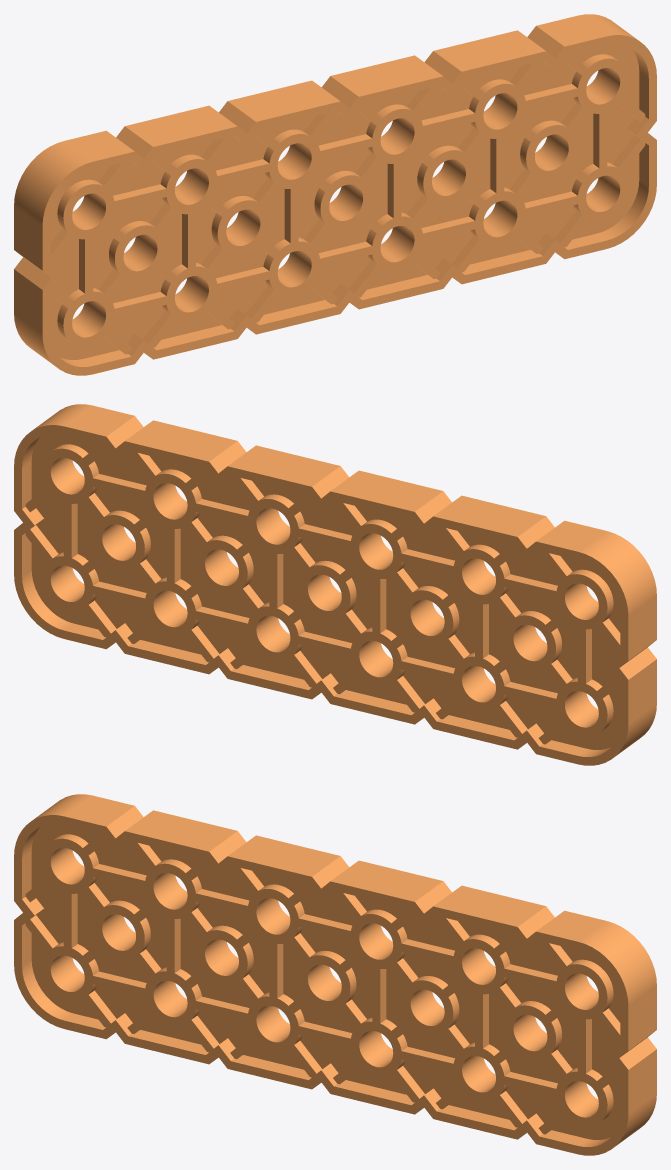
The picture shows the model from 3 angles, top to bottom: view 1: azimuth 30°, elevation 25°; view 2: azimuth 150°, elevation 25°; view 3: azimuth 330°, elevation 25°; orthographic projection.
Parts seen in each view (by area): view 1: main_ff671f; view 2: main_ff671f; view 3: main_ff671f.
Boxes of the visible parts, x1,y1,x2,y2 form: main_ff671f: (14, 14, 656, 375); main_ff671f: (14, 404, 656, 765); main_ff671f: (14, 794, 656, 1155).
Bounding box in the file's own units: 75.9 × 25.1 × 6.1.
